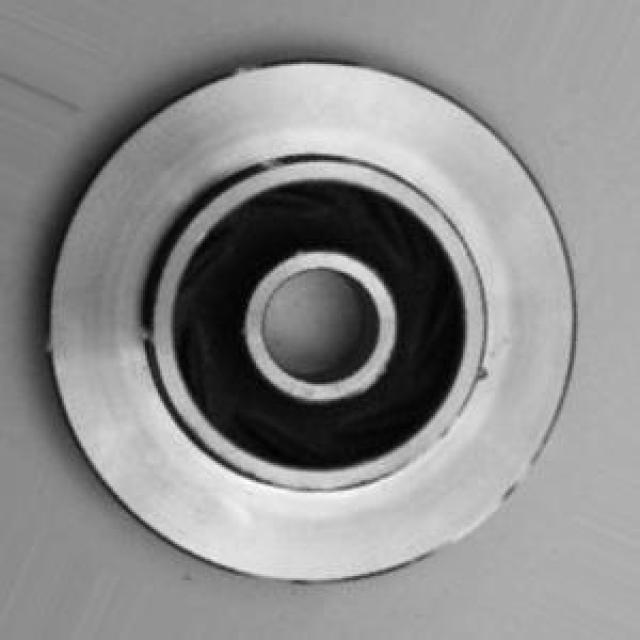Defect: (472, 352, 492, 393)
